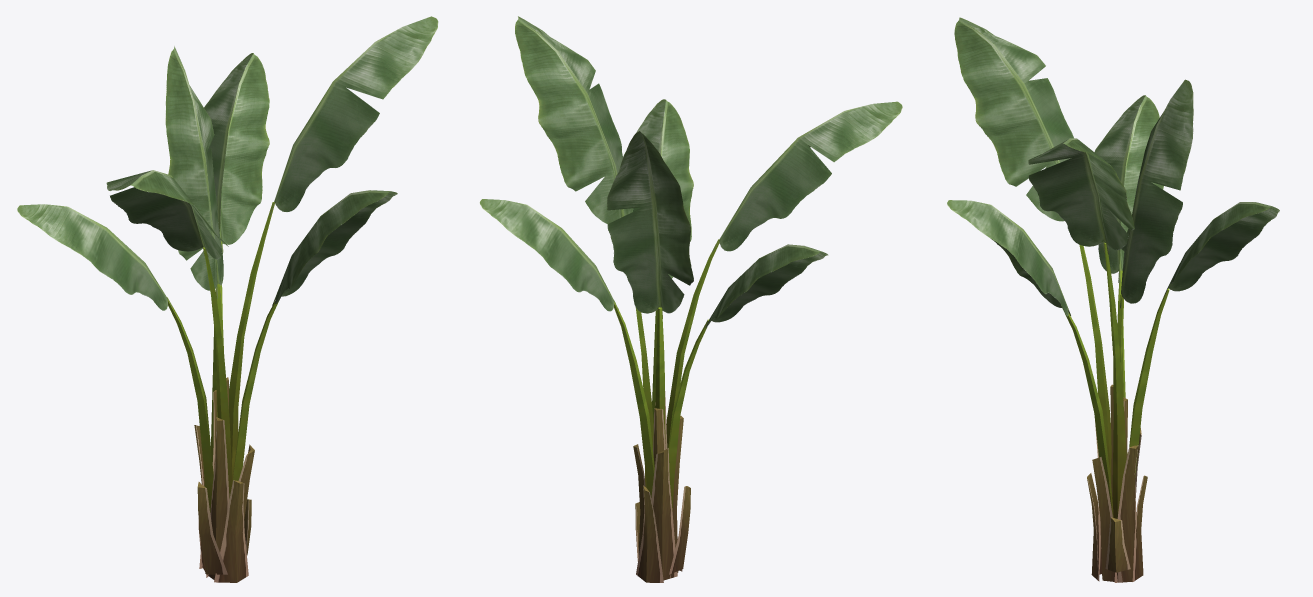
The model's file is D_Plant_013.fbx.
The picture shows the model from 3 angles, left to right: view 1: azimuth 30°, elevation 25°; view 2: azimuth 150°, elevation 25°; view 3: azimuth 270°, elevation 25°; orthographic projection. The views are drawn at different scales.
Parts seen in each view (by area): view 1: D_Plant_013; view 2: D_Plant_013; view 3: D_Plant_013.
Boxes of the visible parts, bbox=[...] form: D_Plant_013: bbox=[17, 16, 438, 582]; D_Plant_013: bbox=[479, 16, 902, 582]; D_Plant_013: bbox=[947, 17, 1279, 582].
Size of the model in its own units: 1.62 by 2.14 by 1.36.
1 material, 1 textured.
